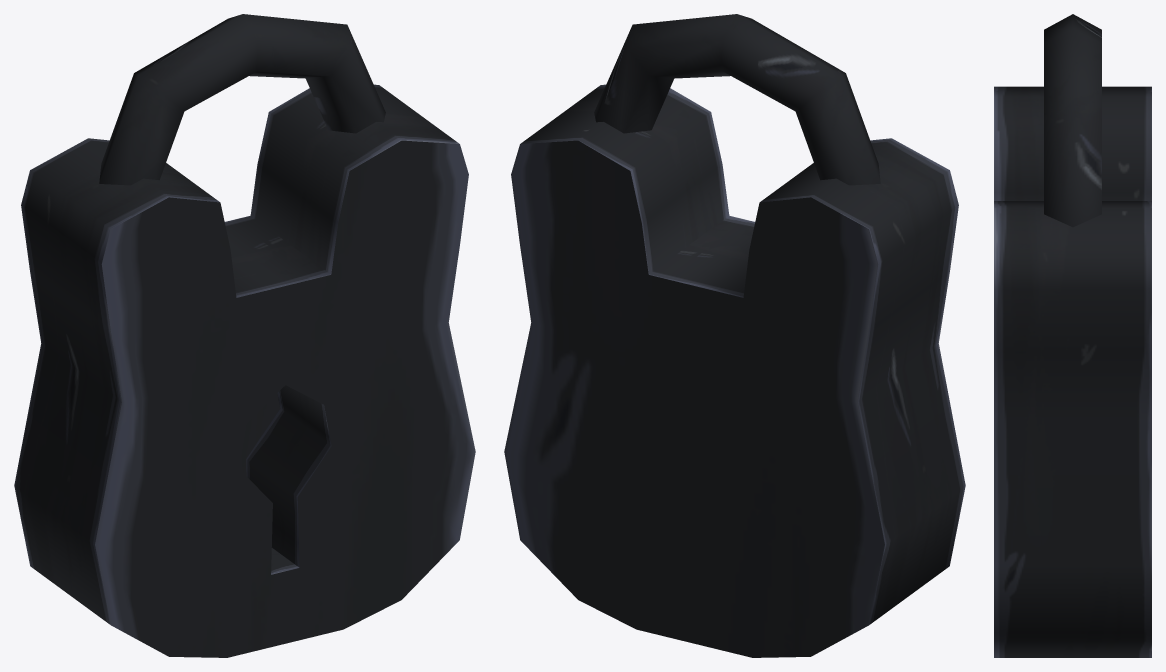
File: SM_PROP_lock_dungeon.fbx
The picture shows the model from 3 angles, left to right: view 1: azimuth 30°, elevation 25°; view 2: azimuth 150°, elevation 25°; view 3: azimuth 270°, elevation 25°; orthographic projection. The views are drawn at different scales.
Visible parts, largest first — view 1: SM_PROP_lock_dungeon, SM_PROP_lock_part_dungeon; view 2: SM_PROP_lock_dungeon, SM_PROP_lock_part_dungeon; view 3: SM_PROP_lock_dungeon, SM_PROP_lock_part_dungeon.
Boxes of the visible parts, bbox=[...] form: SM_PROP_lock_dungeon: bbox=[14, 84, 475, 657]; SM_PROP_lock_part_dungeon: bbox=[99, 14, 385, 185]; SM_PROP_lock_dungeon: bbox=[504, 84, 965, 657]; SM_PROP_lock_part_dungeon: bbox=[594, 14, 880, 185]; SM_PROP_lock_dungeon: bbox=[994, 86, 1151, 657]; SM_PROP_lock_part_dungeon: bbox=[1044, 14, 1101, 227].
Size of the model in its own units: 13.61 by 20.53 by 5.
